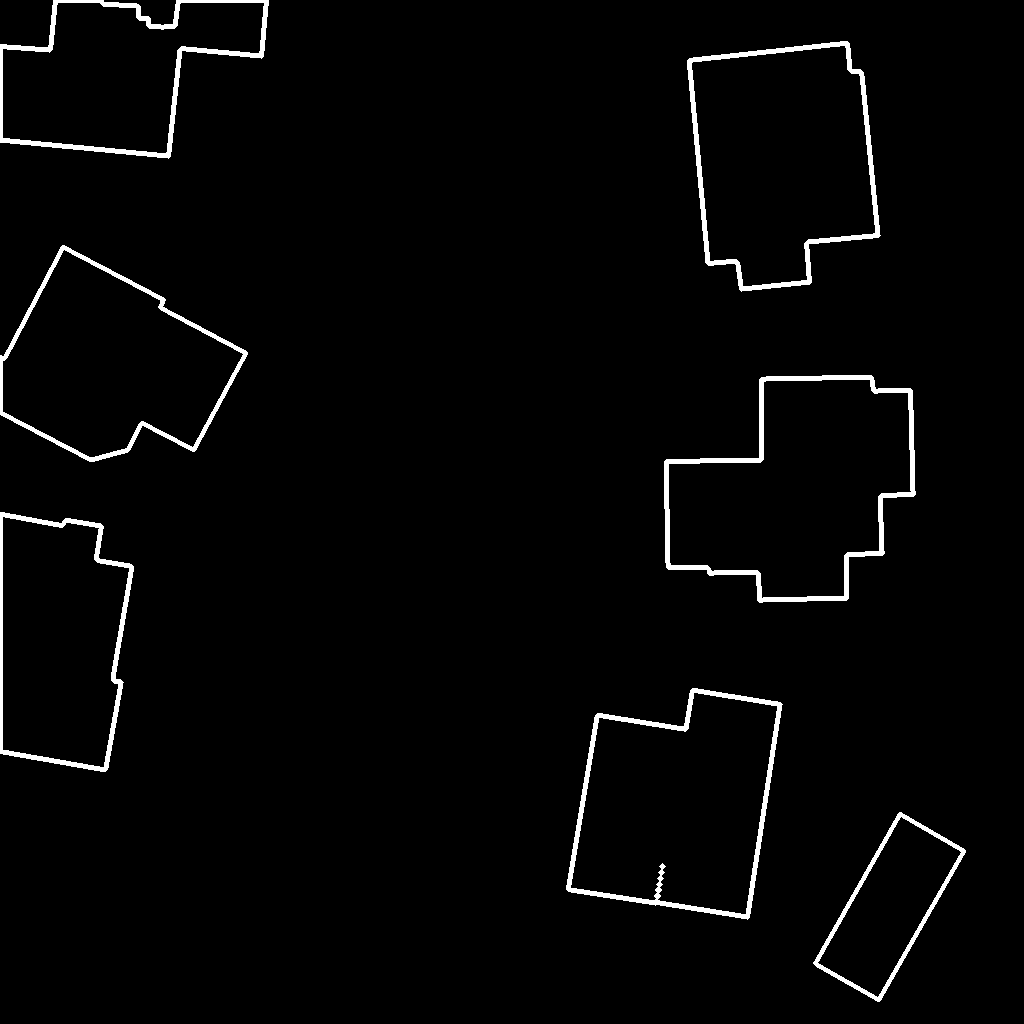building: (666, 377, 914, 601), (0, 247, 247, 461), (689, 43, 879, 290), (0, 0, 268, 157), (0, 514, 133, 771), (657, 690, 781, 918), (815, 814, 965, 1001), (568, 715, 687, 904)
